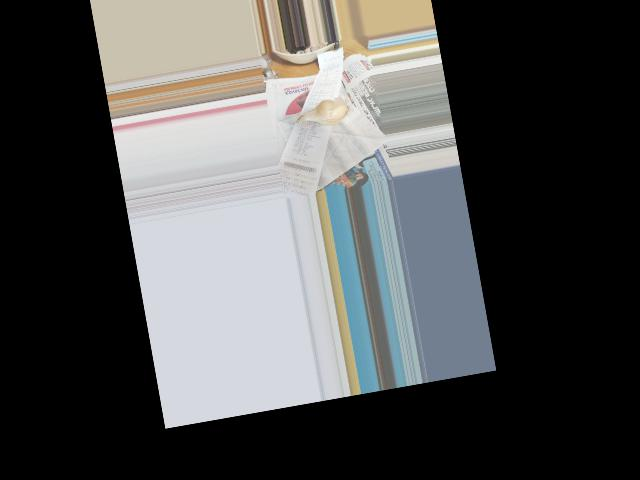onion: (309, 97, 351, 128)
